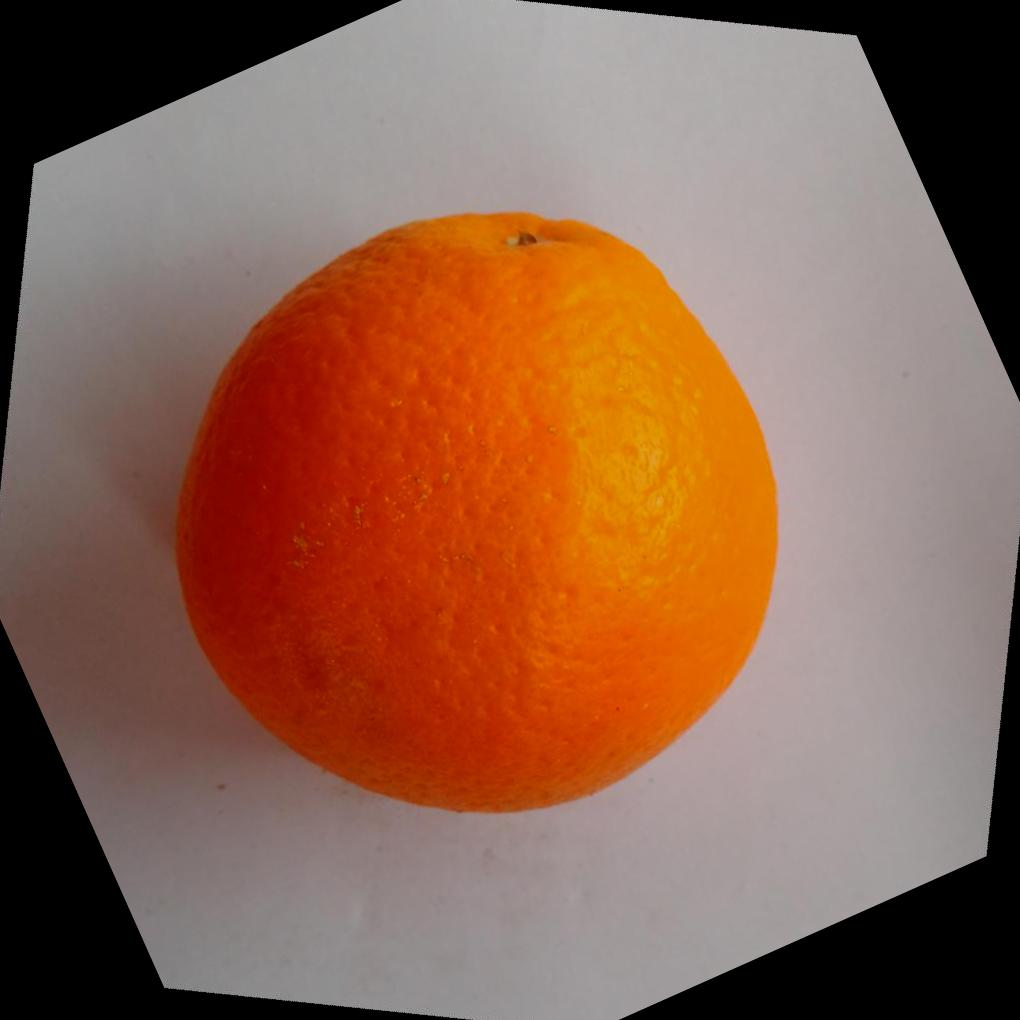FreshGuava: (173, 211, 783, 820)
